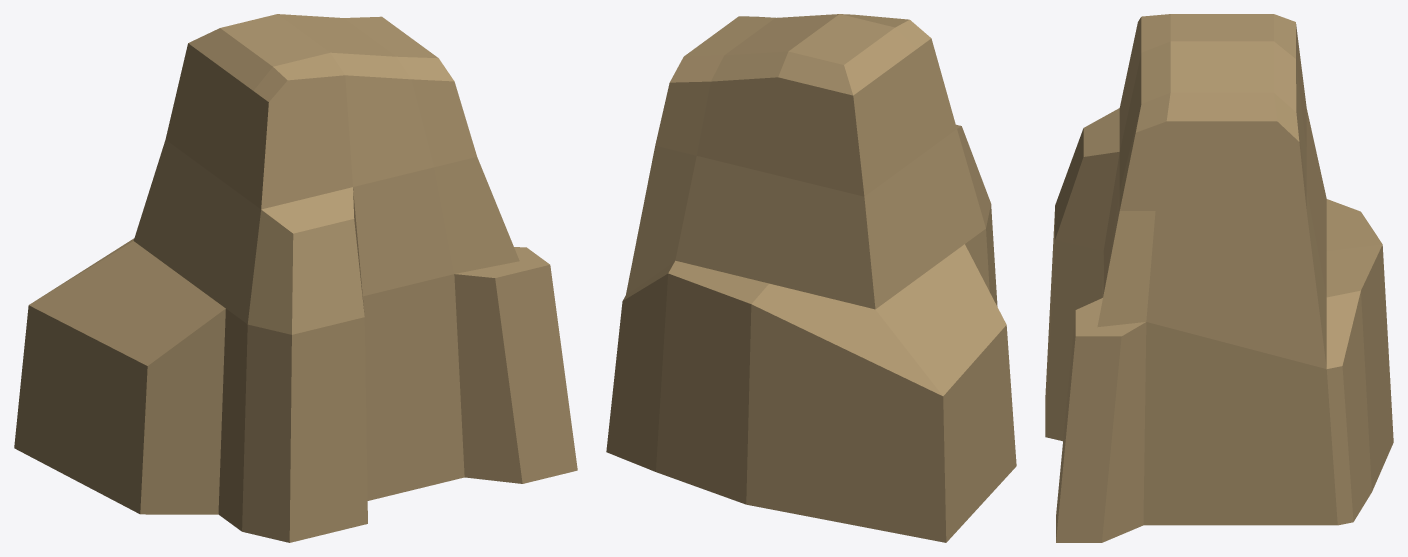
Rendered from Felsen_005.gltf.
3 views of the same model, side by side, from view 1: azimuth 30°, elevation 25°; view 2: azimuth 150°, elevation 25°; view 3: azimuth 270°, elevation 25° (orthographic). The views are drawn at different scales.
Visible parts, largest first — view 1: Felsen.005-col; view 2: Felsen.005-col; view 3: Felsen.005-col.
Boxes of the visible parts, x1,y1,x2,y2 form: Felsen.005-col: (14, 14, 577, 542); Felsen.005-col: (606, 14, 1016, 542); Felsen.005-col: (1045, 14, 1393, 542).
Bounding box in the file's own units: 2.89 × 2.9 × 2.22.
